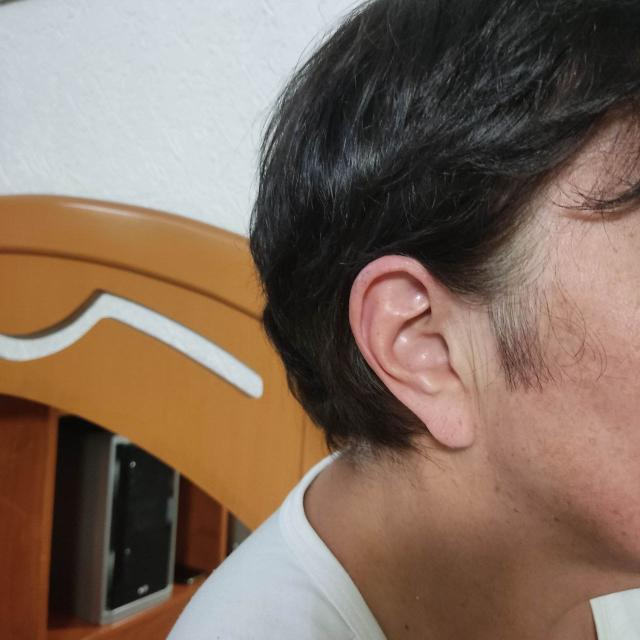ear: (350, 255, 474, 448)
